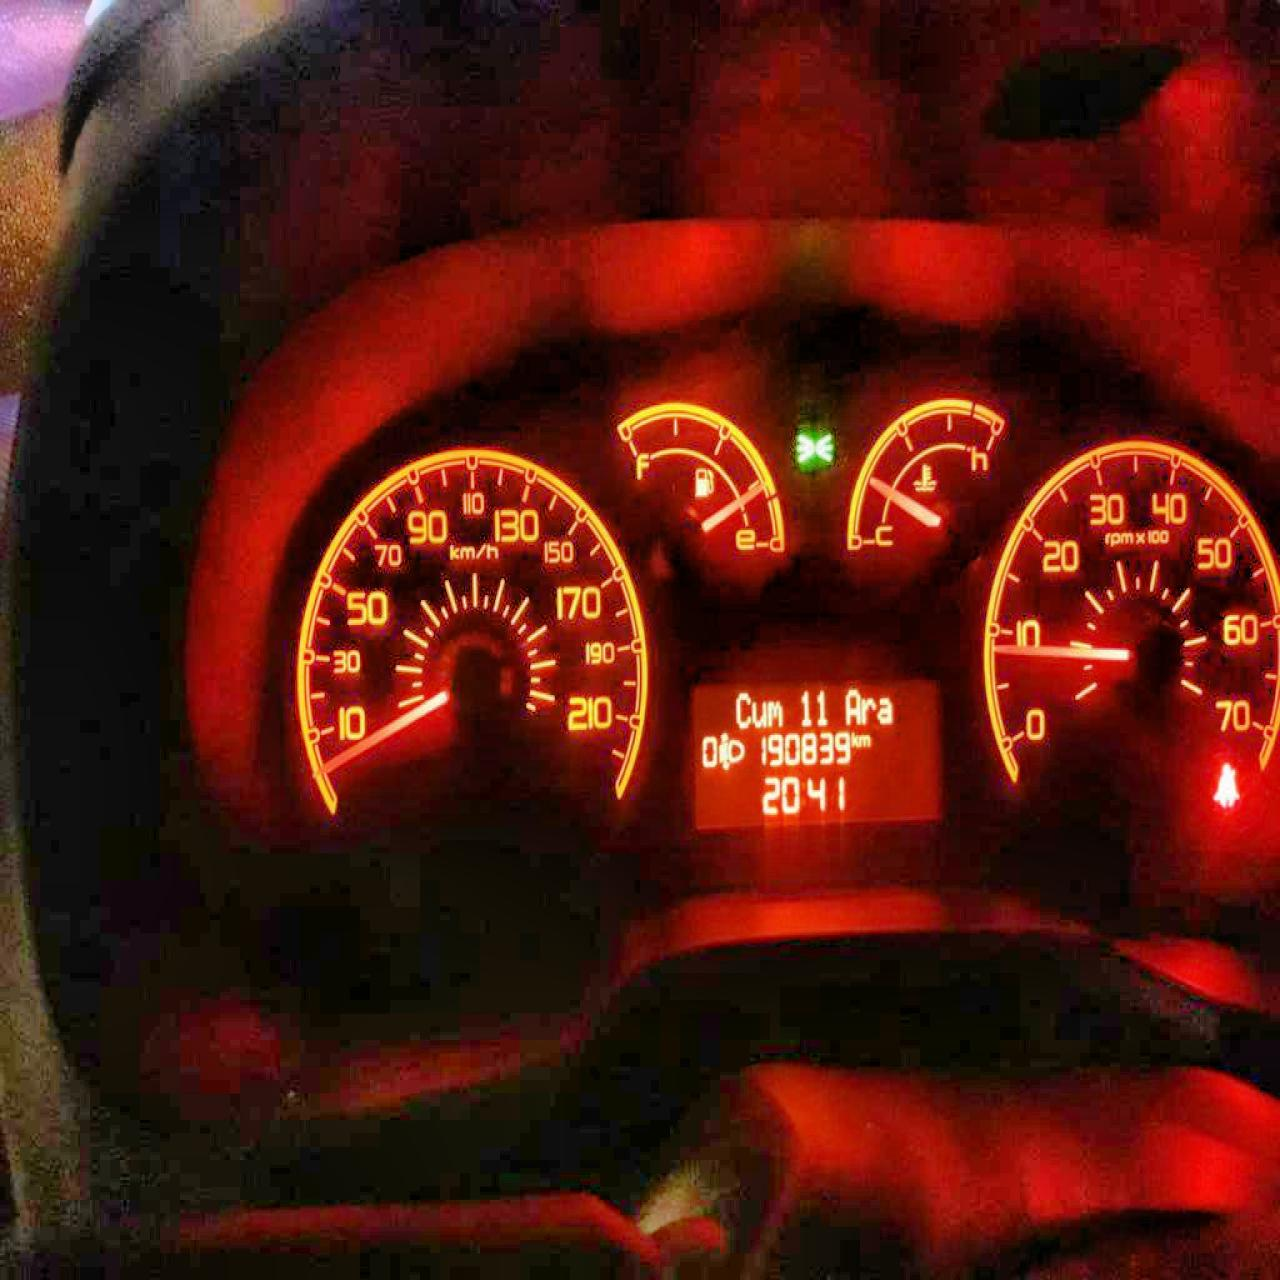0: (780, 773, 799, 815), (700, 732, 718, 768), (782, 732, 798, 765)
1: (798, 687, 812, 728), (814, 688, 828, 727), (834, 772, 846, 812), (758, 733, 766, 765)
2: (761, 773, 779, 815)
3: (818, 730, 832, 765)
4: (806, 775, 826, 812)
8: (800, 730, 816, 765)
9: (832, 728, 850, 765), (768, 730, 782, 767)
X: (842, 683, 860, 725), (734, 690, 750, 730), (876, 695, 892, 725), (766, 698, 782, 727), (861, 693, 875, 725), (752, 697, 766, 728), (799, 778, 805, 808), (850, 728, 859, 748), (859, 733, 870, 747)
odometer: (688, 672, 940, 832)
